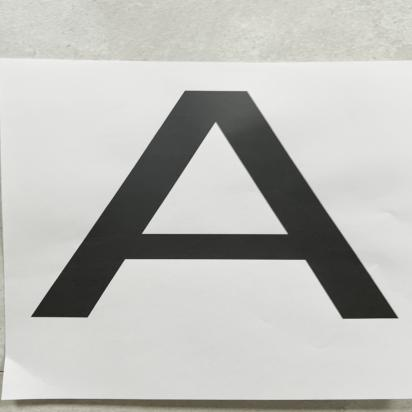seat: (13, 76, 393, 332)
